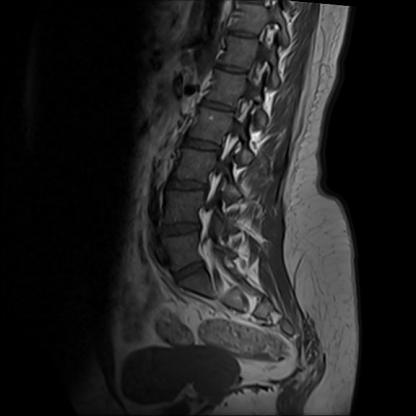Degenerative Disc Diseaserotation: (156, 220, 207, 241)
